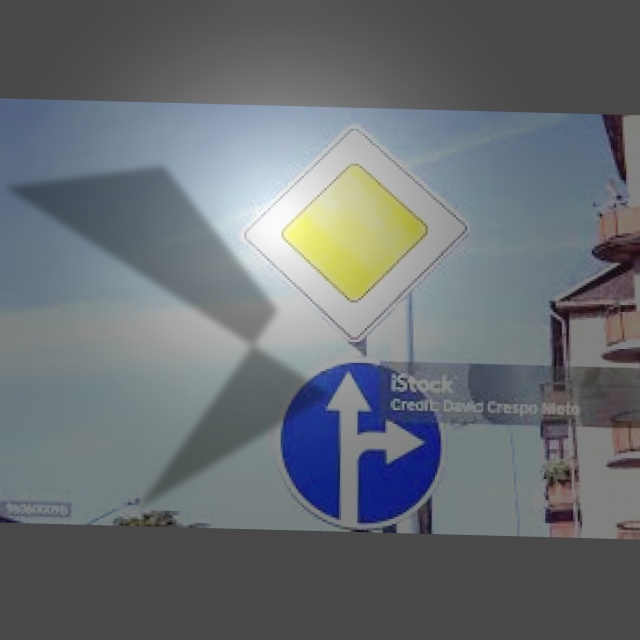Compulsory_Ahead_or_Turn_Right: (276, 357, 439, 525)
